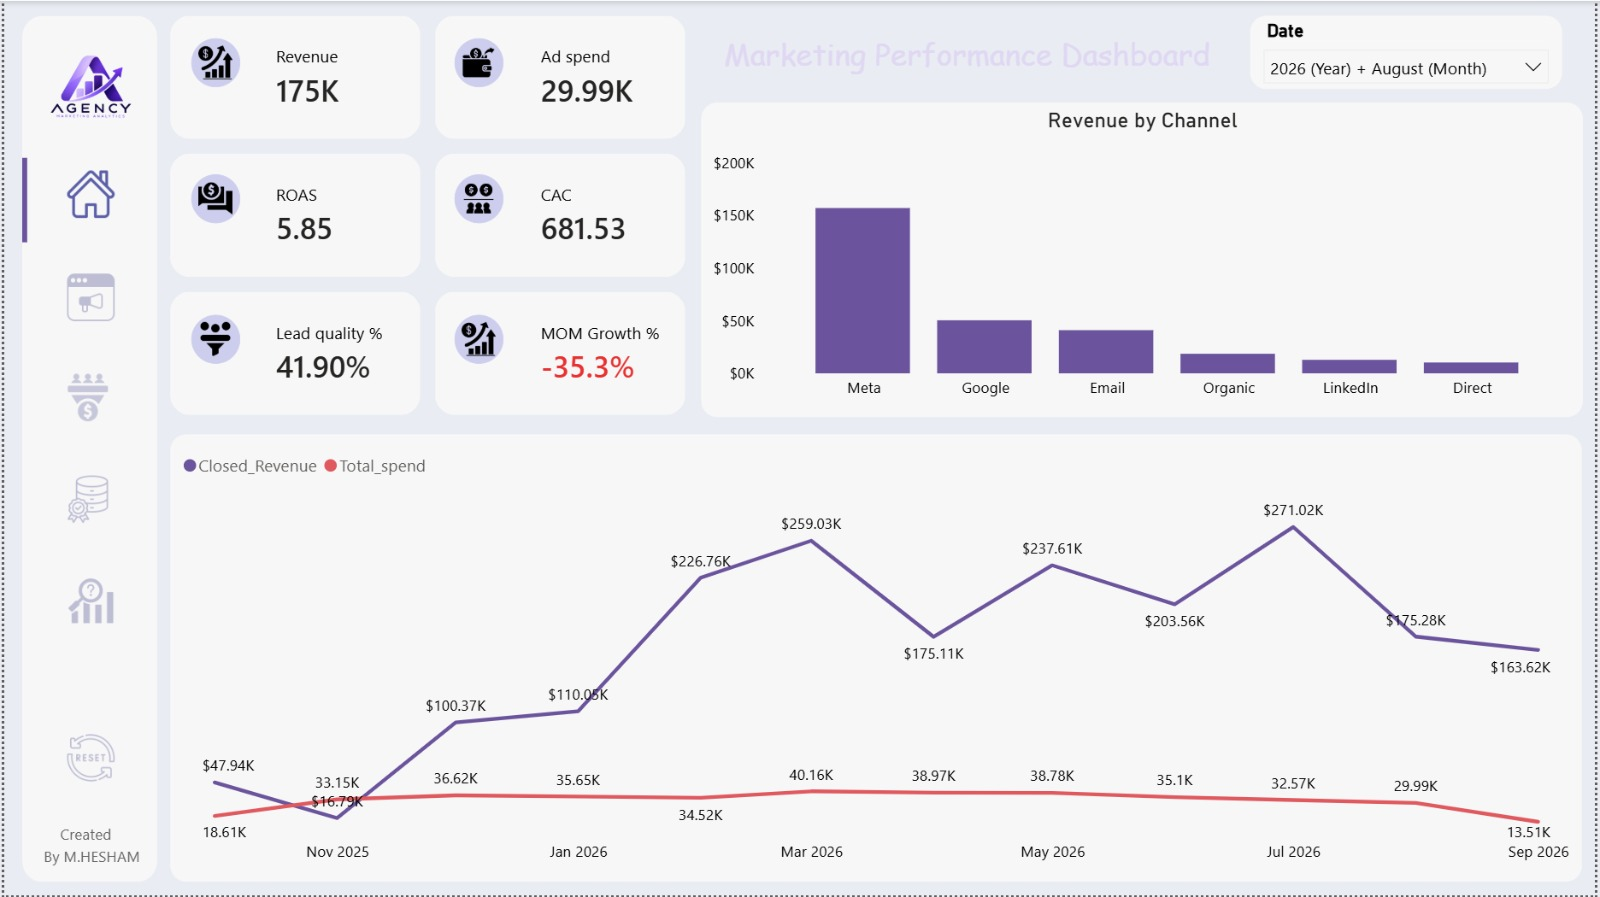

The page's visual inventory and layout, read from the dashboard file:
{"tool":"powerbi","page":{"name":"Executive Command Center","canvas":[1280,720],"ordinal":0},"visuals":[{"type":"textbox","box":[555.3,6.6,437.2,74.8],"z":0},{"type":"cardVisual","fields":{"Data":["A_Measures.MTD Revenue","A_Measures.MTD_Spend","A_Measures.ROAS","A_Measures.CAC","A_Measures.Lead_to_customer %","A_Measures.MOM_Growth %"]},"box":[133.6,11.7,415.3,322.9],"z":0,"group":"g2"},{"type":"slicer","fields":{"Values":["dim_calendar.Date.Variation.Date Hierarchy.Year","dim_calendar.Date.Variation.Date Hierarchy.Month"]},"box":[1001.7,11.8,250.8,59.1],"z":1000},{"type":"lineChart","fields":{"Category":["dim_calendar.Year_Month"],"Y":["A_Measures.Closed_Revenue","A_Measures.Total_spend"]},"box":[133.9,349.2,1135.6,359.7],"z":2000},{"type":"group","id":"g1","title":"Group 2","box":[14.9,11.7,108.6,706.3],"z":3000,"group":"g3"},{"type":"clusteredColumnChart","title":"Revenue by Channel","fields":{"Category":["Fact_Touchpoints.Channel"],"Y":["A_Measures.Closed_Revenue"]},"box":[560.6,81.4,708.9,253.4],"z":3000},{"type":"shape","box":[14.9,11.7,108.6,697.1],"z":4000,"group":"g4"},{"type":"group","id":"g2","title":"Group 3","box":[133.6,11.7,415.3,322.9],"z":4000},{"type":"group","id":"g3","title":"Group 4","box":[14.9,11.7,108.6,706.3],"z":5000},{"type":"image","box":[151,30.2,39.4,39.4],"z":5000,"group":"g2"},{"type":"image","box":[50.4,133.9,38.1,42],"z":5000,"group":"g4"},{"type":"image","box":[151,139.1,39.4,39.4],"z":6000,"group":"g2"},{"type":"image","box":[50.4,217.9,38.1,42],"z":6000,"group":"g4"},{"type":"image","box":[151,252,39.4,39.4],"z":7000,"group":"g2"},{"type":"image","box":[50.4,588.1,38.1,42],"z":7000,"group":"g4"},{"type":"image","box":[362.4,139.1,39.4,39.4],"z":8000,"group":"g2"},{"type":"image","box":[49.1,298,38.1,42],"z":8000,"group":"g4"},{"type":"image","box":[362.4,30.2,39.4,39.4],"z":9000,"group":"g2"},{"type":"image","box":[49.1,379.4,38.1,42],"z":9000,"group":"g4"},{"type":"image","box":[50.4,462.1,38.1,42],"z":9250,"group":"g4"},{"type":"pageNavigator","box":[14.9,125.9,107.7,383.4],"z":9500,"group":"g4"},{"type":"image","box":[362.4,252,39.4,39.4],"z":10000,"group":"g2"},{"type":"group","id":"g4","title":"Group 1","box":[14.9,11.7,108.6,697.1],"z":11000,"group":"g1"},{"type":"image","box":[28.8,27.5,81.4,80.1],"z":11000,"group":"g3"},{"type":"textbox","box":[17.5,655,105,63],"z":11500,"group":"g1"}]}

Visuals, with their boxes in screenshot pixels (x1, y1, x2, y2), scaled from the page's 1280x720 canvas onto the 1600x897 screenshot:
textbox: {"left": 694, "top": 8, "right": 1241, "bottom": 101}
cardVisual - A_Measures.MTD Revenue x A_Measures.MTD_Spend: {"left": 167, "top": 15, "right": 686, "bottom": 417}
slicer - dim_calendar.Date.Variation.Date Hierarchy.Year x dim_calendar.Date.Variation.Date Hierarchy.Month: {"left": 1252, "top": 15, "right": 1566, "bottom": 88}
lineChart - dim_calendar.Year_Month x A_Measures.Closed_Revenue: {"left": 167, "top": 435, "right": 1587, "bottom": 883}
"Group 2" group: {"left": 19, "top": 15, "right": 154, "bottom": 895}
"Revenue by Channel" clusteredColumnChart: {"left": 701, "top": 101, "right": 1587, "bottom": 417}
shape: {"left": 19, "top": 15, "right": 154, "bottom": 883}
"Group 3" group: {"left": 167, "top": 15, "right": 686, "bottom": 417}
"Group 4" group: {"left": 19, "top": 15, "right": 154, "bottom": 895}
image: {"left": 189, "top": 38, "right": 238, "bottom": 87}
image: {"left": 63, "top": 167, "right": 111, "bottom": 219}
image: {"left": 189, "top": 173, "right": 238, "bottom": 222}
image: {"left": 63, "top": 271, "right": 111, "bottom": 324}
image: {"left": 189, "top": 314, "right": 238, "bottom": 363}
image: {"left": 63, "top": 733, "right": 111, "bottom": 785}
image: {"left": 453, "top": 173, "right": 502, "bottom": 222}
image: {"left": 61, "top": 371, "right": 109, "bottom": 424}
image: {"left": 453, "top": 38, "right": 502, "bottom": 87}
image: {"left": 61, "top": 473, "right": 109, "bottom": 525}
image: {"left": 63, "top": 576, "right": 111, "bottom": 628}
pageNavigator: {"left": 19, "top": 157, "right": 153, "bottom": 635}
image: {"left": 453, "top": 314, "right": 502, "bottom": 363}
"Group 1" group: {"left": 19, "top": 15, "right": 154, "bottom": 883}
image: {"left": 36, "top": 34, "right": 138, "bottom": 134}
textbox: {"left": 22, "top": 816, "right": 153, "bottom": 895}
